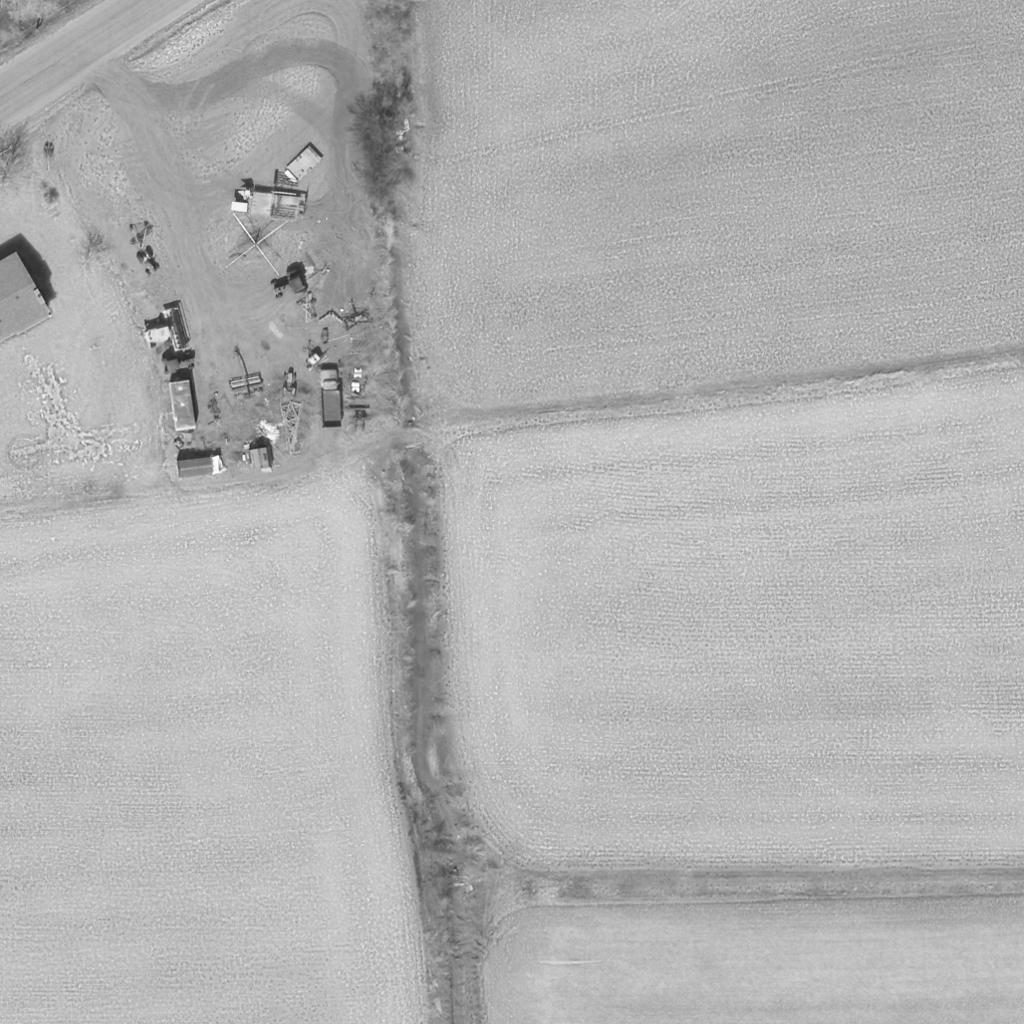vehicle: (225, 182, 311, 224), (136, 304, 194, 360), (277, 145, 327, 185), (264, 265, 312, 305), (167, 380, 197, 434), (320, 366, 344, 428), (155, 351, 199, 379), (133, 244, 165, 276), (173, 457, 223, 477), (277, 367, 299, 397)
